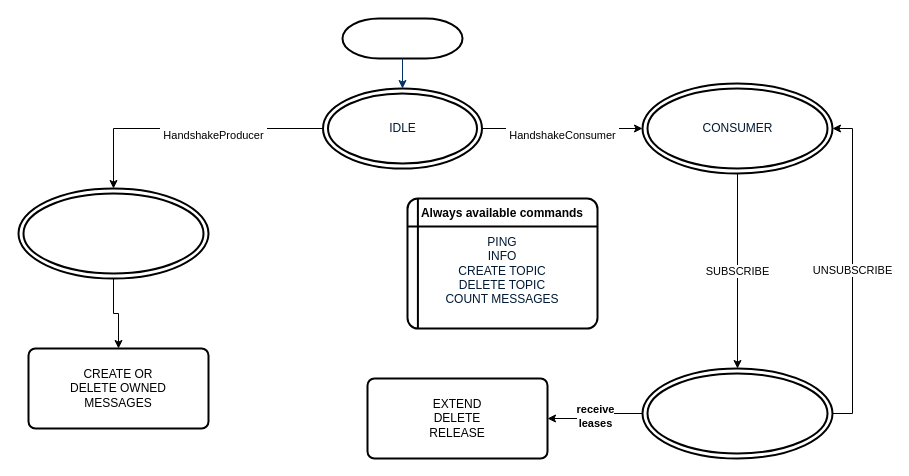
The diagram is 909 pixels wide and 476 high, and some of its shapes have lost their labels. The centre of each missing label's shape, as x and y in pixels:
"CONNECT to a broker" goes at point 402,38.
"PRODUCER" goes at point 113,233.
"SUBSCRIBED CONSUMER" goes at point 737,413.
